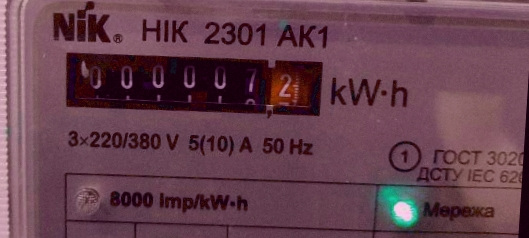0: (179, 62, 198, 90), (148, 61, 166, 90), (85, 62, 103, 90), (117, 62, 135, 90), (211, 63, 228, 91)
2: (276, 72, 293, 99)
7: (242, 64, 259, 94)
screen: (50, 39, 334, 128)
